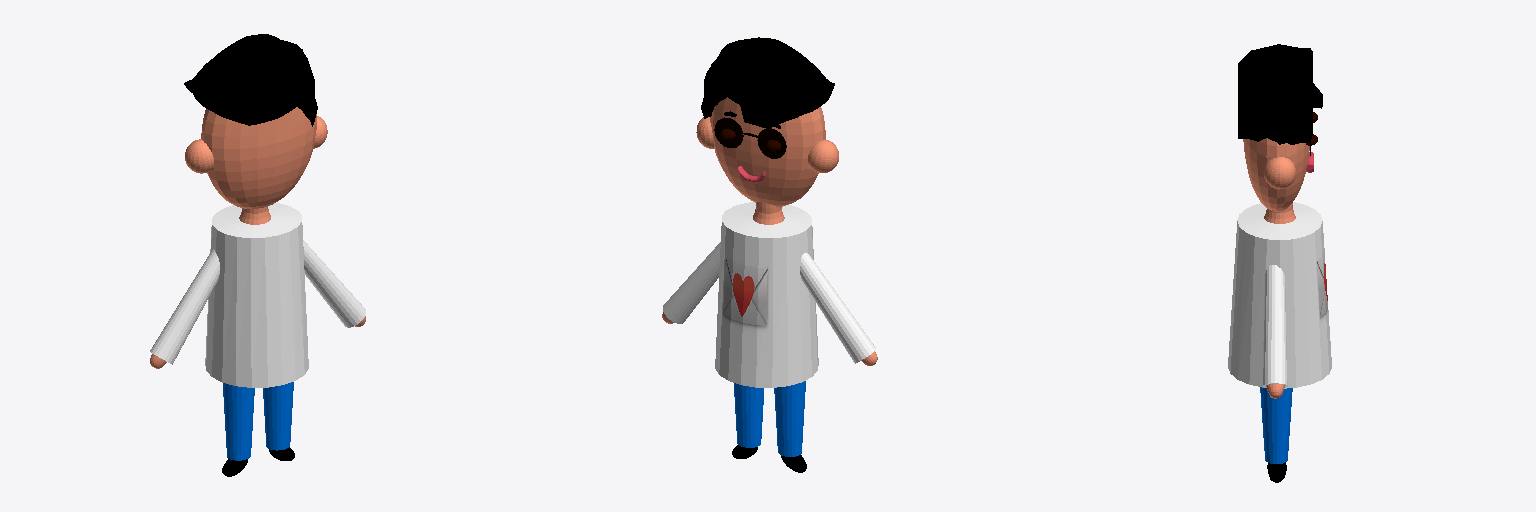
3 renders of one model, left to right at view 1: azimuth 30°, elevation 25°; view 2: azimuth 150°, elevation 25°; view 3: azimuth 270°, elevation 25°, orthographic.
Visible parts, largest first — view 1: AllBASIC body, hair, AllBASIC face1 group1, AllBASIC arm2 pCylinder2, AllBASIC arm1 pCylinder2, AllBASIC Leg1 pCylinder4, AllBASIC Leg2 pCylinder4, ear1 AllBASIC; view 2: AllBASIC body, hair, AllBASIC face1 group1, AllBASIC arm2 pCylinder2, AllBASIC Leg1 pCylinder4, AllBASIC arm1 pCylinder2, AllBASIC Leg2 pCylinder4, glasses, ear1 AllBASIC, AllBASIC neck; view 3: AllBASIC body, hair, AllBASIC face1 group1, AllBASIC arm1 pCylinder2, AllBASIC Leg2 pCylinder4, AllBASIC ear2.
Boxes of the visible parts, x1=… form: AllBASIC body: x1=205, y1=203, x2=308, y2=387; hair: x1=184, y1=34, x2=317, y2=126; AllBASIC face1 group1: x1=201, y1=107, x2=316, y2=208; AllBASIC arm2 pCylinder2: x1=150, y1=249, x2=219, y2=364; AllBASIC arm1 pCylinder2: x1=303, y1=240, x2=365, y2=327; AllBASIC Leg1 pCylinder4: x1=223, y1=383, x2=254, y2=460; AllBASIC Leg2 pCylinder4: x1=263, y1=382, x2=293, y2=450; ear1 AllBASIC: x1=185, y1=139, x2=213, y2=173; AllBASIC body: x1=715, y1=202, x2=818, y2=387; hair: x1=701, y1=37, x2=834, y2=128; AllBASIC face1 group1: x1=710, y1=97, x2=825, y2=206; AllBASIC arm2 pCylinder2: x1=800, y1=253, x2=875, y2=363; AllBASIC Leg1 pCylinder4: x1=774, y1=381, x2=805, y2=456; AllBASIC arm1 pCylinder2: x1=663, y1=242, x2=720, y2=323; AllBASIC Leg2 pCylinder4: x1=734, y1=383, x2=763, y2=447; glasses: x1=714, y1=117, x2=786, y2=158; ear1 AllBASIC: x1=808, y1=139, x2=838, y2=172; AllBASIC neck: x1=753, y1=202, x2=784, y2=224; AllBASIC body: x1=1228, y1=202, x2=1331, y2=388; hair: x1=1238, y1=44, x2=1322, y2=144; AllBASIC face1 group1: x1=1243, y1=138, x2=1309, y2=211; AllBASIC arm1 pCylinder2: x1=1263, y1=265, x2=1287, y2=387; AllBASIC Leg2 pCylinder4: x1=1260, y1=387, x2=1292, y2=463; AllBASIC ear2: x1=1264, y1=157, x2=1295, y2=188.
Bounding box in the file's own units: 3.85 × 7.26 × 1.63.
9 materials, 1 textured.